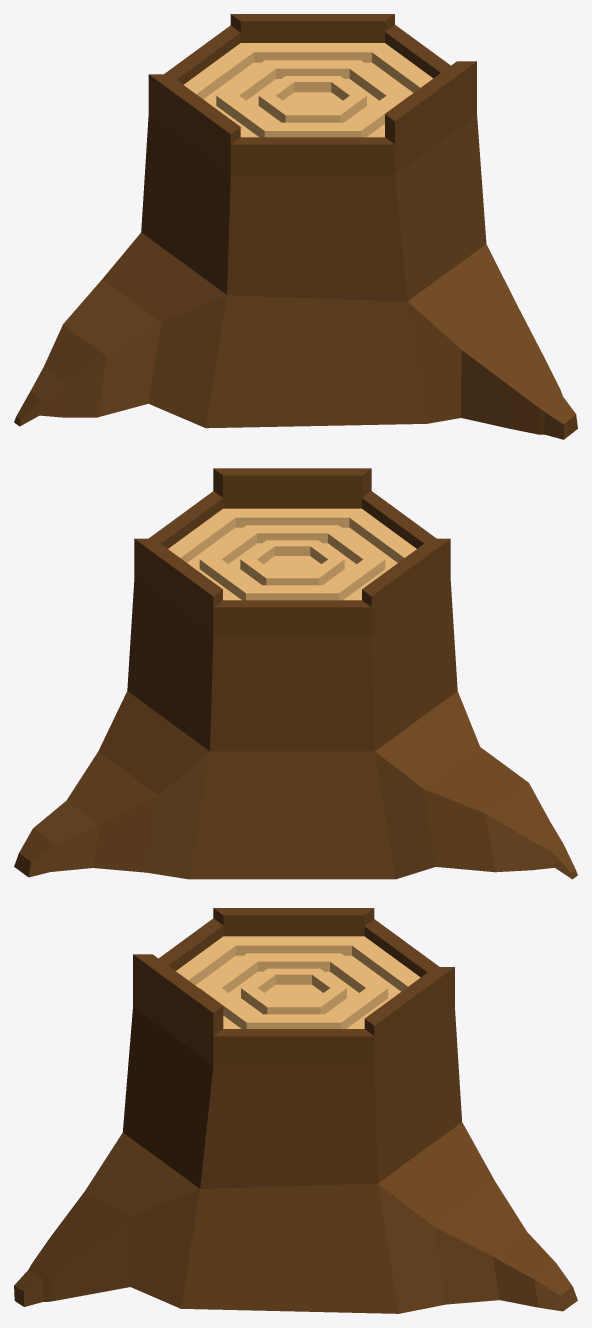
Rendered from tronco1.fbx.
The picture shows the model from 3 angles, top to bottom: view 1: azimuth 30°, elevation 25°; view 2: azimuth 150°, elevation 25°; view 3: azimuth 270°, elevation 25°; orthographic projection. The views are drawn at different scales.
Visible parts, largest first — view 1: Circle.003; view 2: Circle.003; view 3: Circle.003.
Boxes of the visible parts, x1,y1,x2,y2 form: Circle.003: (14,14,577,439); Circle.003: (14,468,577,879); Circle.003: (14,908,577,1313).
Bounding box in the file's own units: 4.17 × 2.63 × 4.57.
